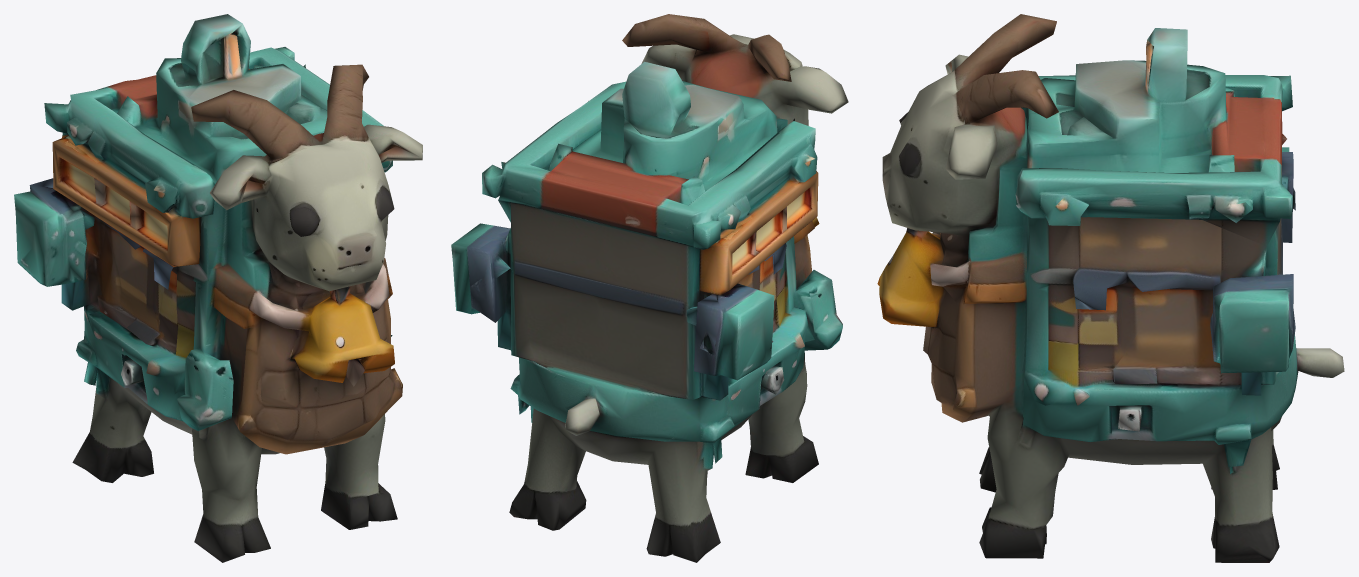
The model's file is utility_scapegoat_3000.glb.
The picture shows the model from 3 angles, left to right: view 1: azimuth 30°, elevation 25°; view 2: azimuth 150°, elevation 25°; view 3: azimuth 270°, elevation 25°; orthographic projection. The views are drawn at different scales.
Visible parts, largest first — view 1: tripo_node_41bbc3ae-1b49-4a87-978f-84b9123ffbbd; view 2: tripo_node_41bbc3ae-1b49-4a87-978f-84b9123ffbbd; view 3: tripo_node_41bbc3ae-1b49-4a87-978f-84b9123ffbbd.
Part boxes in pixels (x1,y1,x2,y2): tripo_node_41bbc3ae-1b49-4a87-978f-84b9123ffbbd: (14,14,422,562); tripo_node_41bbc3ae-1b49-4a87-978f-84b9123ffbbd: (451,14,848,562); tripo_node_41bbc3ae-1b49-4a87-978f-84b9123ffbbd: (877,14,1344,562).
Bounding box in the file's own units: 0.6909 × 0.9781 × 0.8675.
1 material, 1 textured.
